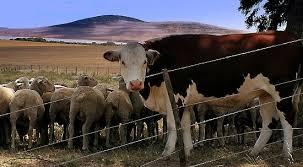cow: (104, 31, 303, 163)
